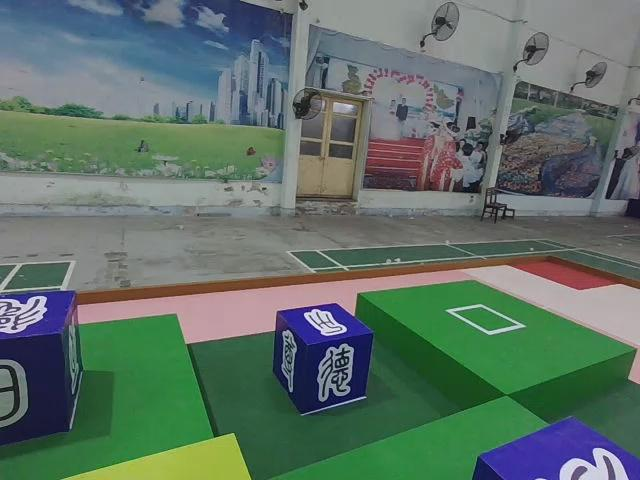R2 Fake Blue: (0, 288, 82, 455), (276, 306, 377, 418)
